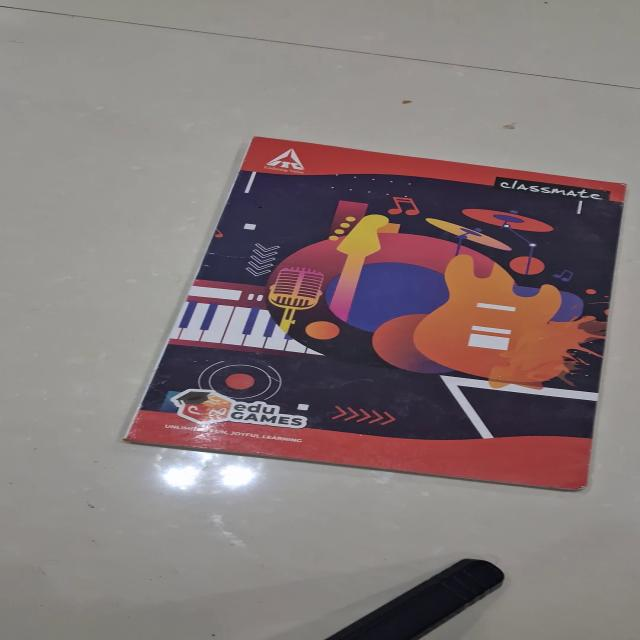paper: (122, 136, 626, 491)
